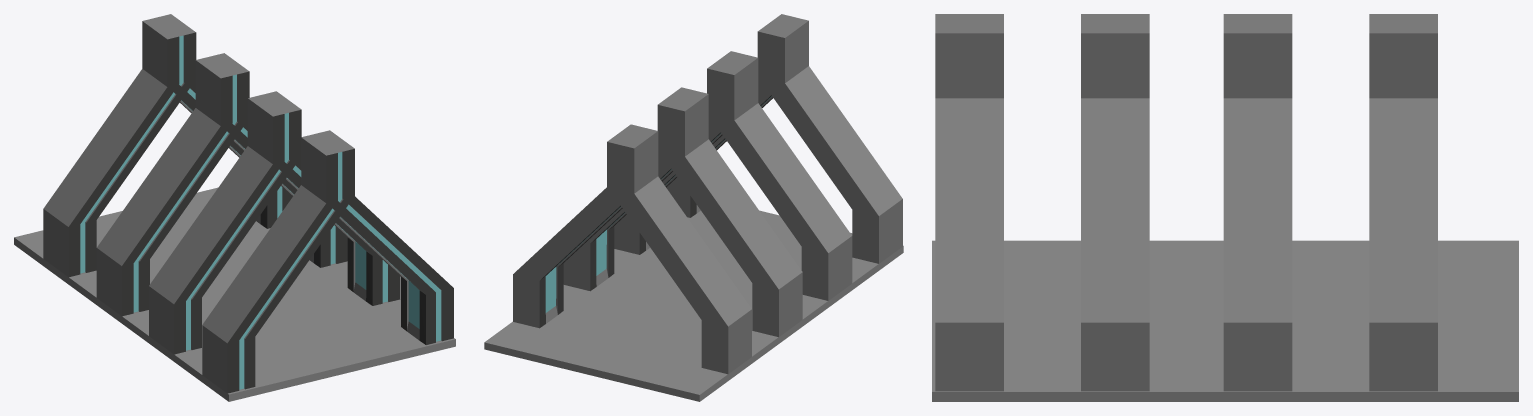
File: ArchLevelChunk.dae
The picture shows the model from 3 angles, left to right: view 1: azimuth 30°, elevation 25°; view 2: azimuth 150°, elevation 25°; view 3: azimuth 270°, elevation 25°; orthographic projection. The views are drawn at different scales.
Visible parts, largest first — view 1: Cube_006; view 2: Cube_006; view 3: Cube_006.
Boxes of the visible parts, left/top/right/bottom form: Cube_006: left=14, top=14, right=455, bottom=401; Cube_006: left=484, top=14, right=903, bottom=401; Cube_006: left=932, top=14, right=1518, bottom=401.
Size of the model in its own units: 8.69 by 14.22 by 8.08.
